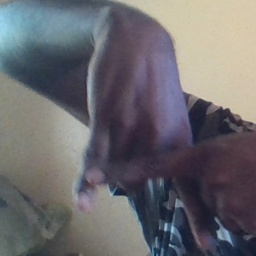H: (81, 123, 229, 250)
